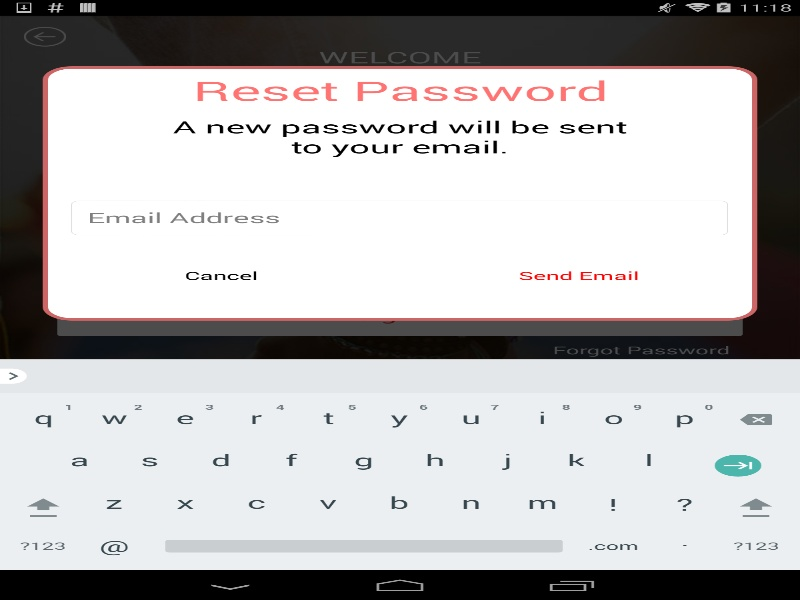Button: (57, 294, 742, 335), (57, 387, 742, 412), (42, 254, 400, 296), (400, 254, 757, 296), (281, 417, 638, 438), (538, 338, 742, 363)
Input: (57, 193, 742, 235), (57, 242, 742, 283), (71, 200, 728, 235)
